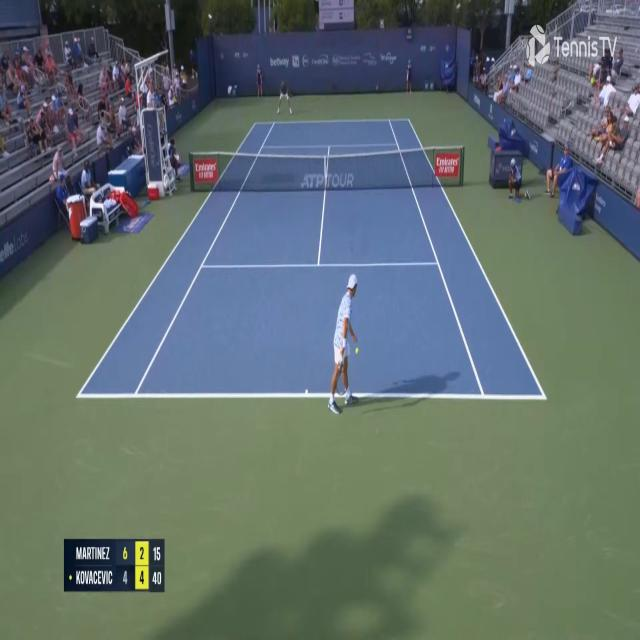tennis-player: (326, 268, 362, 418), (276, 78, 294, 116)
